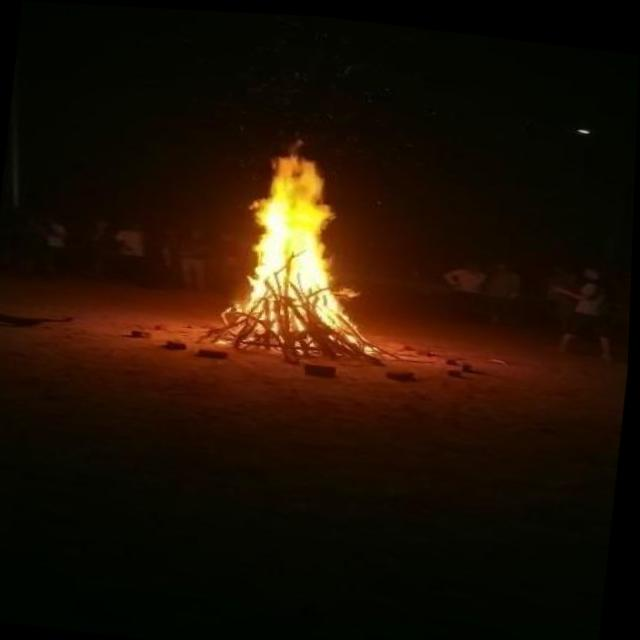fire: (206, 112, 393, 350)
